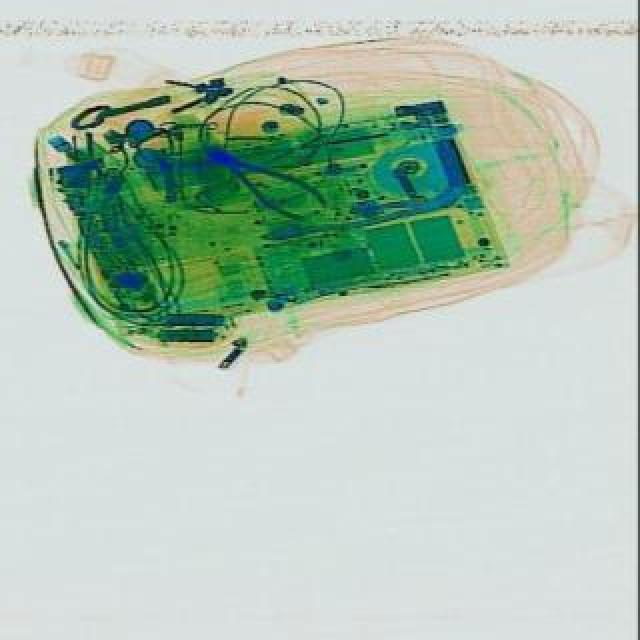wrench: (194, 128, 332, 232)
